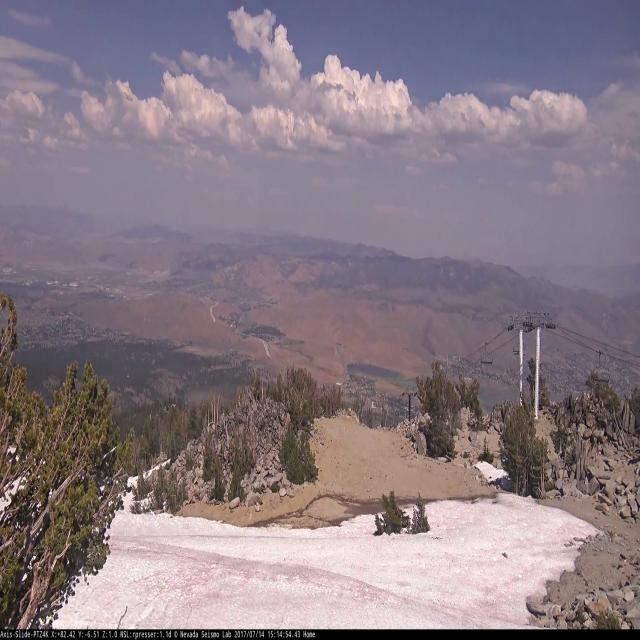smoke: (420, 317, 437, 357)
